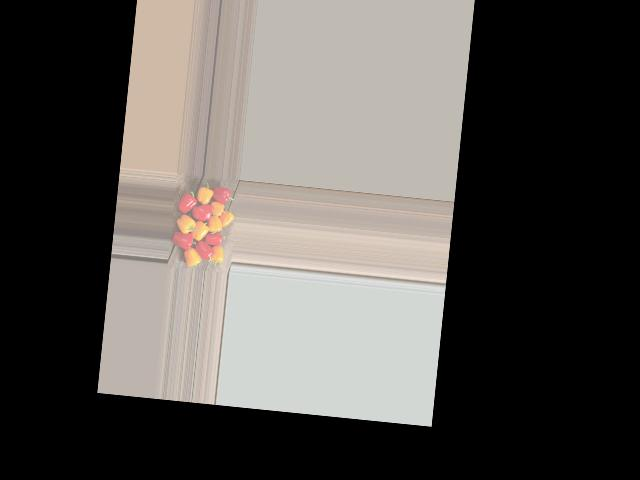bell_pepper: (179, 241, 202, 268)
